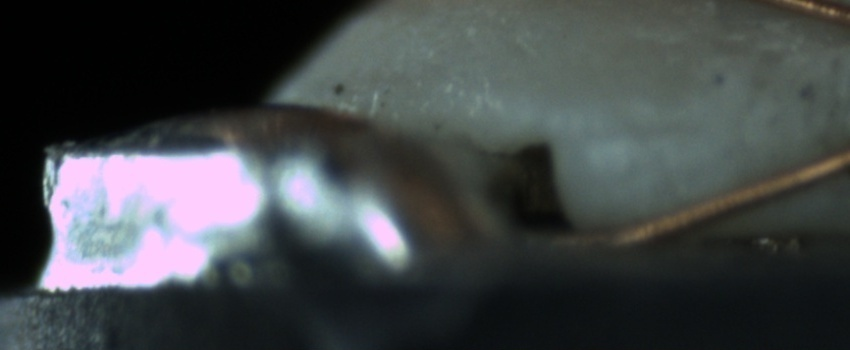DL: (576, 102, 716, 161)
